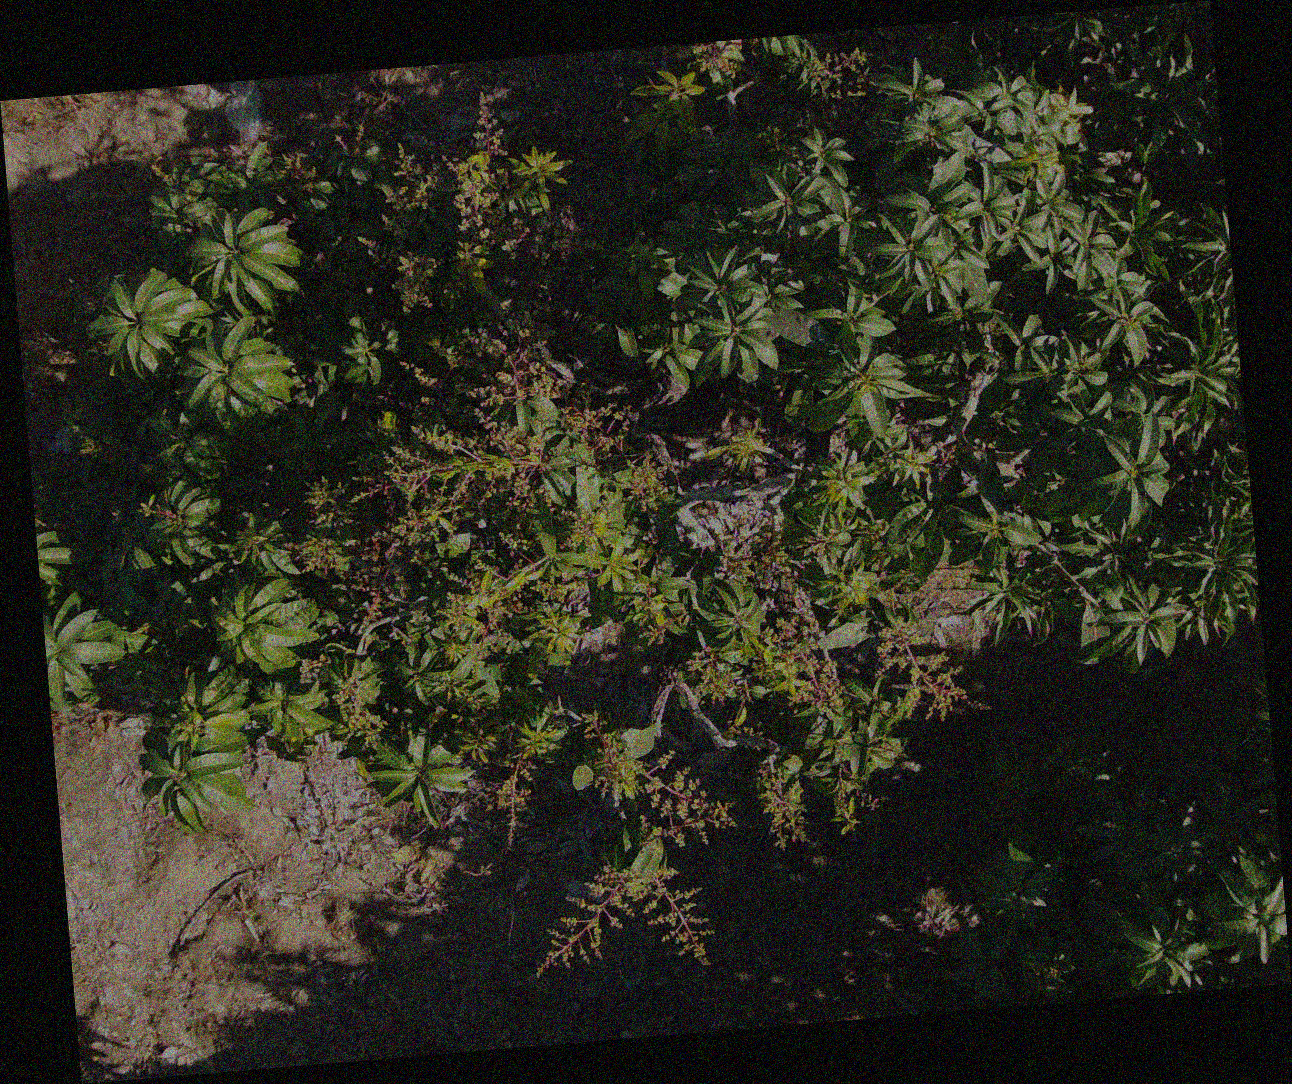flowers: (308, 334, 573, 666), (572, 707, 730, 848), (533, 865, 710, 972), (453, 131, 575, 266), (681, 618, 839, 711), (878, 617, 986, 721), (492, 714, 570, 847), (379, 145, 437, 254), (757, 764, 805, 850), (334, 675, 386, 751), (437, 242, 494, 306), (562, 403, 634, 454), (630, 456, 674, 512), (560, 505, 611, 550), (692, 42, 744, 82), (299, 655, 331, 683), (841, 1014, 861, 1021)
